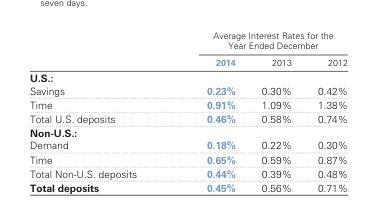table: (28, 29, 346, 193)
table column: (28, 29, 171, 193), (171, 29, 247, 193), (247, 29, 303, 193), (303, 29, 346, 193)
table column header: (28, 29, 346, 69)
table projected row header: (28, 69, 346, 83), (28, 125, 346, 138)
table row: (28, 29, 346, 53), (28, 53, 346, 69), (28, 96, 346, 111), (28, 165, 346, 180), (28, 69, 346, 83), (28, 111, 346, 125), (28, 151, 346, 165), (28, 83, 346, 96), (28, 125, 346, 138), (28, 138, 346, 151), (28, 180, 346, 193)
table spanning cell: (171, 29, 346, 53)
